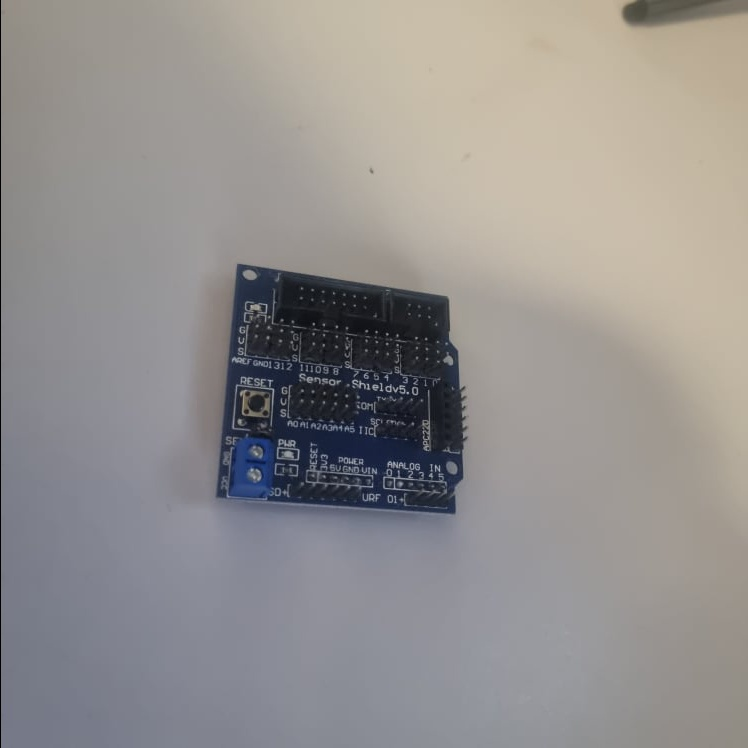5V EXPANSION: (216, 263, 461, 515)
